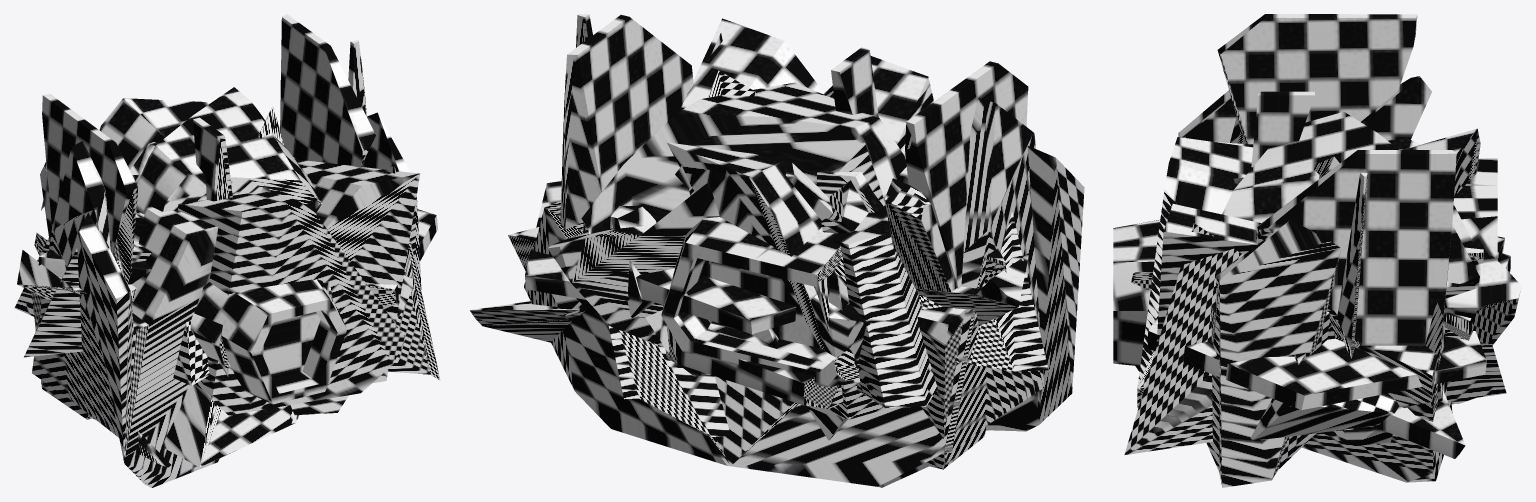
File: fracture.obj
3 renders of one model, left to right at view 1: azimuth 30°, elevation 25°; view 2: azimuth 150°, elevation 25°; view 3: azimuth 270°, elevation 25°, orthographic. The views are drawn at different scales.
Parts seen in each view (by area): view 1: space_frigate_6_Part_19, space_frigate_6_Part_22, space_frigate_6_Part_18, space_frigate_6_Part_16, space_frigate_6_Part_21, space_frigate_6_Part_24, space_frigate_6_Part_20, space_frigate_6_Part_9, space_frigate_6_Part_17, space_frigate_6_Part_8, space_frigate_6_Part_27, space_frigate_6_Part_23 (+5 smaller); view 2: space_frigate_6_Part_21, space_frigate_6_Part_19, space_frigate_6_Part_16, space_frigate_6_Part_22, space_frigate_6_Part_20, space_frigate_6_Part_17, space_frigate_6_Part_7, space_frigate_6_Part_1, space_frigate_6_Part_18, space_frigate_6_Part_9, space_frigate_6_Part_8, space_frigate_6_Part_24 (+6 smaller); view 3: space_frigate_6_Part_19, space_frigate_6_Part_26, space_frigate_6_Part_20, space_frigate_6_Part_27, space_frigate_6_Part_8, space_frigate_6_Part_22, space_frigate_6_Part_18, space_frigate_6_Part_16, space_frigate_6_Part_21, space_frigate_6_Part_1, space_frigate_6_Part_24, space_frigate_6_Part_10 (+5 smaller).
Boxes of the visible parts, bbox=[...] form: space_frigate_6_Part_19: bbox=[79, 14, 375, 487]; space_frigate_6_Part_22: bbox=[34, 191, 405, 415]; space_frigate_6_Part_18: bbox=[194, 279, 347, 404]; space_frigate_6_Part_16: bbox=[136, 87, 413, 415]; space_frigate_6_Part_21: bbox=[32, 141, 170, 467]; space_frigate_6_Part_24: bbox=[293, 157, 419, 383]; space_frigate_6_Part_20: bbox=[31, 40, 366, 419]; space_frigate_6_Part_9: bbox=[161, 106, 299, 467]; space_frigate_6_Part_17: bbox=[99, 98, 228, 376]; space_frigate_6_Part_8: bbox=[24, 209, 437, 357]; space_frigate_6_Part_27: bbox=[385, 165, 440, 380]; space_frigate_6_Part_23: bbox=[193, 117, 232, 201]; space_frigate_6_Part_21: bbox=[524, 98, 1044, 486]; space_frigate_6_Part_19: bbox=[508, 15, 1084, 431]; space_frigate_6_Part_16: bbox=[581, 82, 906, 376]; space_frigate_6_Part_22: bbox=[661, 56, 933, 386]; space_frigate_6_Part_20: bbox=[576, 14, 1028, 487]; space_frigate_6_Part_17: bbox=[667, 142, 873, 440]; space_frigate_6_Part_7: bbox=[832, 206, 937, 408]; space_frigate_6_Part_1: bbox=[470, 178, 1029, 342]; space_frigate_6_Part_18: bbox=[547, 183, 719, 346]; space_frigate_6_Part_9: bbox=[588, 70, 756, 436]; space_frigate_6_Part_8: bbox=[525, 181, 1048, 371]; space_frigate_6_Part_24: bbox=[610, 18, 823, 317]; space_frigate_6_Part_19: bbox=[1178, 90, 1456, 406]; space_frigate_6_Part_26: bbox=[1206, 220, 1341, 487]; space_frigate_6_Part_20: bbox=[1217, 14, 1417, 358]; space_frigate_6_Part_27: bbox=[1124, 223, 1510, 455]; space_frigate_6_Part_8: bbox=[1148, 316, 1486, 410]; space_frigate_6_Part_22: bbox=[1137, 137, 1497, 408]; space_frigate_6_Part_18: bbox=[1113, 205, 1521, 366]; space_frigate_6_Part_16: bbox=[1222, 111, 1479, 285]; space_frigate_6_Part_21: bbox=[1230, 117, 1452, 482]; space_frigate_6_Part_1: bbox=[1361, 76, 1465, 458]; space_frigate_6_Part_24: bbox=[1156, 204, 1483, 347]; space_frigate_6_Part_10: bbox=[1250, 393, 1399, 440].
Size of the model in its own units: 3.76 by 2.88 by 2.87.
